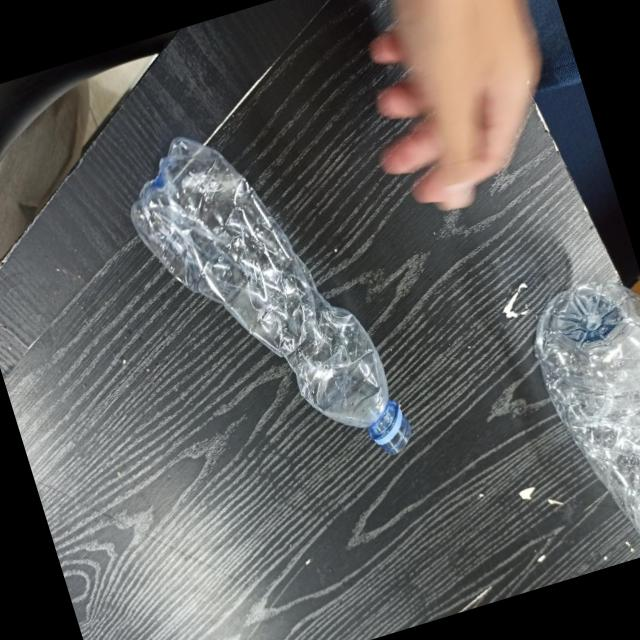BotolPlastik: (112, 94, 420, 510), (507, 249, 640, 570)
